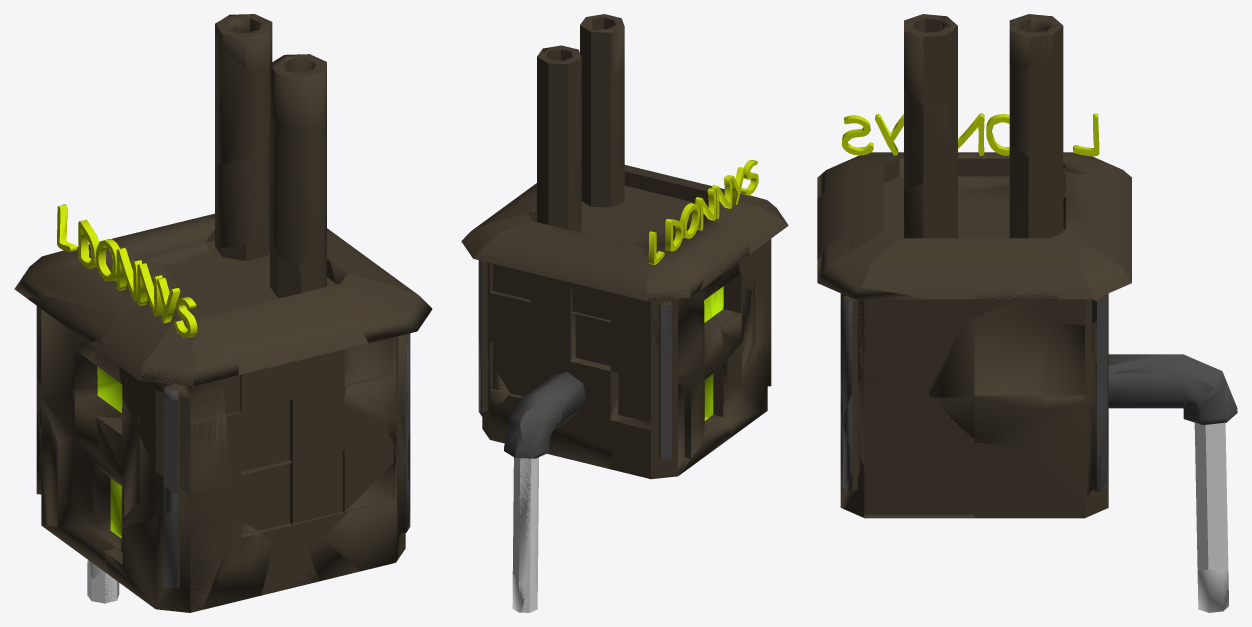
File: LDONNYS.fbx
The picture shows the model from 3 angles, left to right: view 1: azimuth 30°, elevation 25°; view 2: azimuth 150°, elevation 25°; view 3: azimuth 270°, elevation 25°; orthographic projection. The views are drawn at different scales.
Parts seen in each view (by area): view 1: LDonnys, LDonnys_cell.075, LDonnys_cell.078, LDonnys_cell.045, LDonnys_cell.024, LDonnys_cell.076, LDonnys_cell.009, LDonnys_cell.023, Sign, LDonnys_cell.001, LDonnys_cell.032, LDonnys_cell.058 (+13 smaller); view 2: LDonnys, LDonnys_cell.075, LDonnys_cell.045, LDonnys_cell.023, Sign, LDonnys_cell.078, LDonnys_cell.080, LDonnys_cell.002, LDonnys_cell.051, LDonnys_cell.037, LDonnys_cell.058, LDonnys_cell.026 (+7 smaller); view 3: LDonnys, LDonnys_cell.005, LDonnys_cell.015, LDonnys_cell.018, Sign, LDonnys_cell.075, LDonnys_cell.051, LDonnys_cell.002, LDonnys_cell.043, LDonnys_cell.009, LDonnys_cell.010, LDonnys_cell.007 (+8 smaller).
Part boxes in pixels (x1,y1,x2,y2): LDonnys: (19,14,421,612); LDonnys_cell.075: (14,243,197,396); LDonnys_cell.078: (104,498,231,612); LDonnys_cell.045: (38,381,122,533); LDonnys_cell.024: (270,129,326,262); LDonnys_cell.076: (323,458,410,571); LDonnys_cell.009: (215,29,272,164); LDonnys_cell.023: (96,397,228,528); Sign: (57,204,197,337); LDonnys_cell.001: (215,149,269,247); LDonnys_cell.032: (136,384,230,495); LDonnys_cell.058: (41,463,121,574); LDonnys: (461,14,788,612); LDonnys_cell.075: (613,214,728,375); LDonnys_cell.045: (678,296,726,425); LDonnys_cell.023: (709,283,767,394); Sign: (648,159,758,264); LDonnys_cell.078: (711,329,771,436); LDonnys_cell.080: (516,453,538,587); LDonnys_cell.002: (508,372,586,458); LDonnys_cell.051: (539,226,629,294); LDonnys_cell.037: (547,427,614,468); LDonnys_cell.058: (678,417,731,475); LDonnys_cell.026: (700,231,749,289); LDonnys: (817,14,1237,571); LDonnys_cell.005: (926,299,1050,447); LDonnys_cell.015: (1022,402,1108,499); LDonnys_cell.018: (1040,322,1096,410); Sign: (842,113,1099,156); LDonnys_cell.075: (958,152,1120,206); LDonnys_cell.051: (1063,173,1122,231); LDonnys_cell.002: (1108,354,1225,413); LDonnys_cell.043: (1009,15,1060,68); LDonnys_cell.009: (1009,29,1046,156); LDonnys_cell.010: (840,293,864,386); LDonnys_cell.007: (817,246,929,299).
Bounding box in the file's own units: 1153 × 2353 × 1484.
